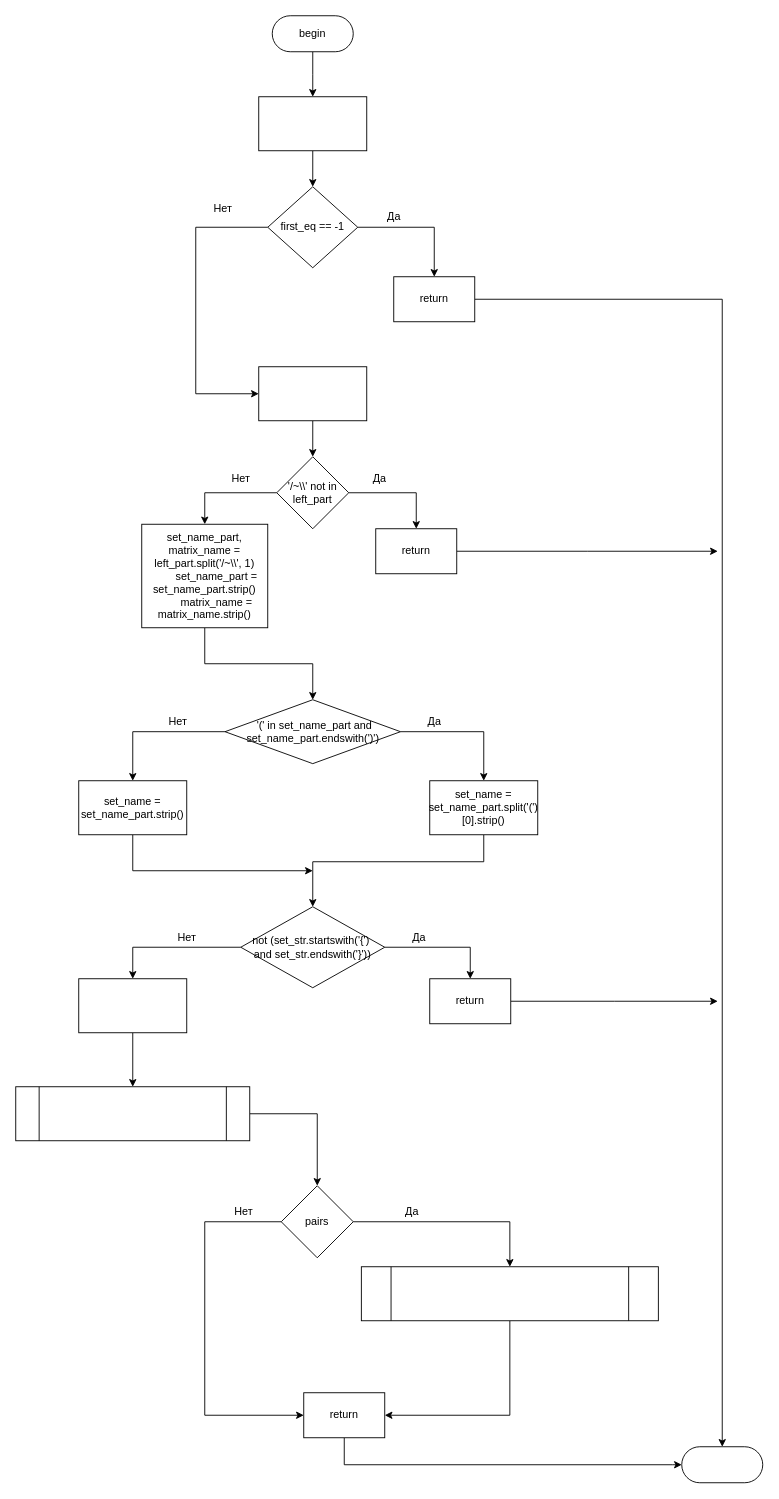
Image size: 779x1499. Some labels were removed from this diagram. The centre of each missing label's shape, as x and y in pixels:
"end" goes at pixel 722 1464.
"first_eq = line.find('=')" goes at pixel 312 123.
"inference_name = line[:first_eq].strip() rest = line[first_eq+1:].strip()" goes at pixel 312 393.
"inner_set = set_str[1:-1].strip()" goes at pixel 132 1005.
"pairs = self._extract_pairs(inference_name, inner_set)" goes at pixel 132 1113.
"self.reverse_inferences.append((inference_name, set_name, matrix_name, pairs))" goes at pixel 509 1293.
